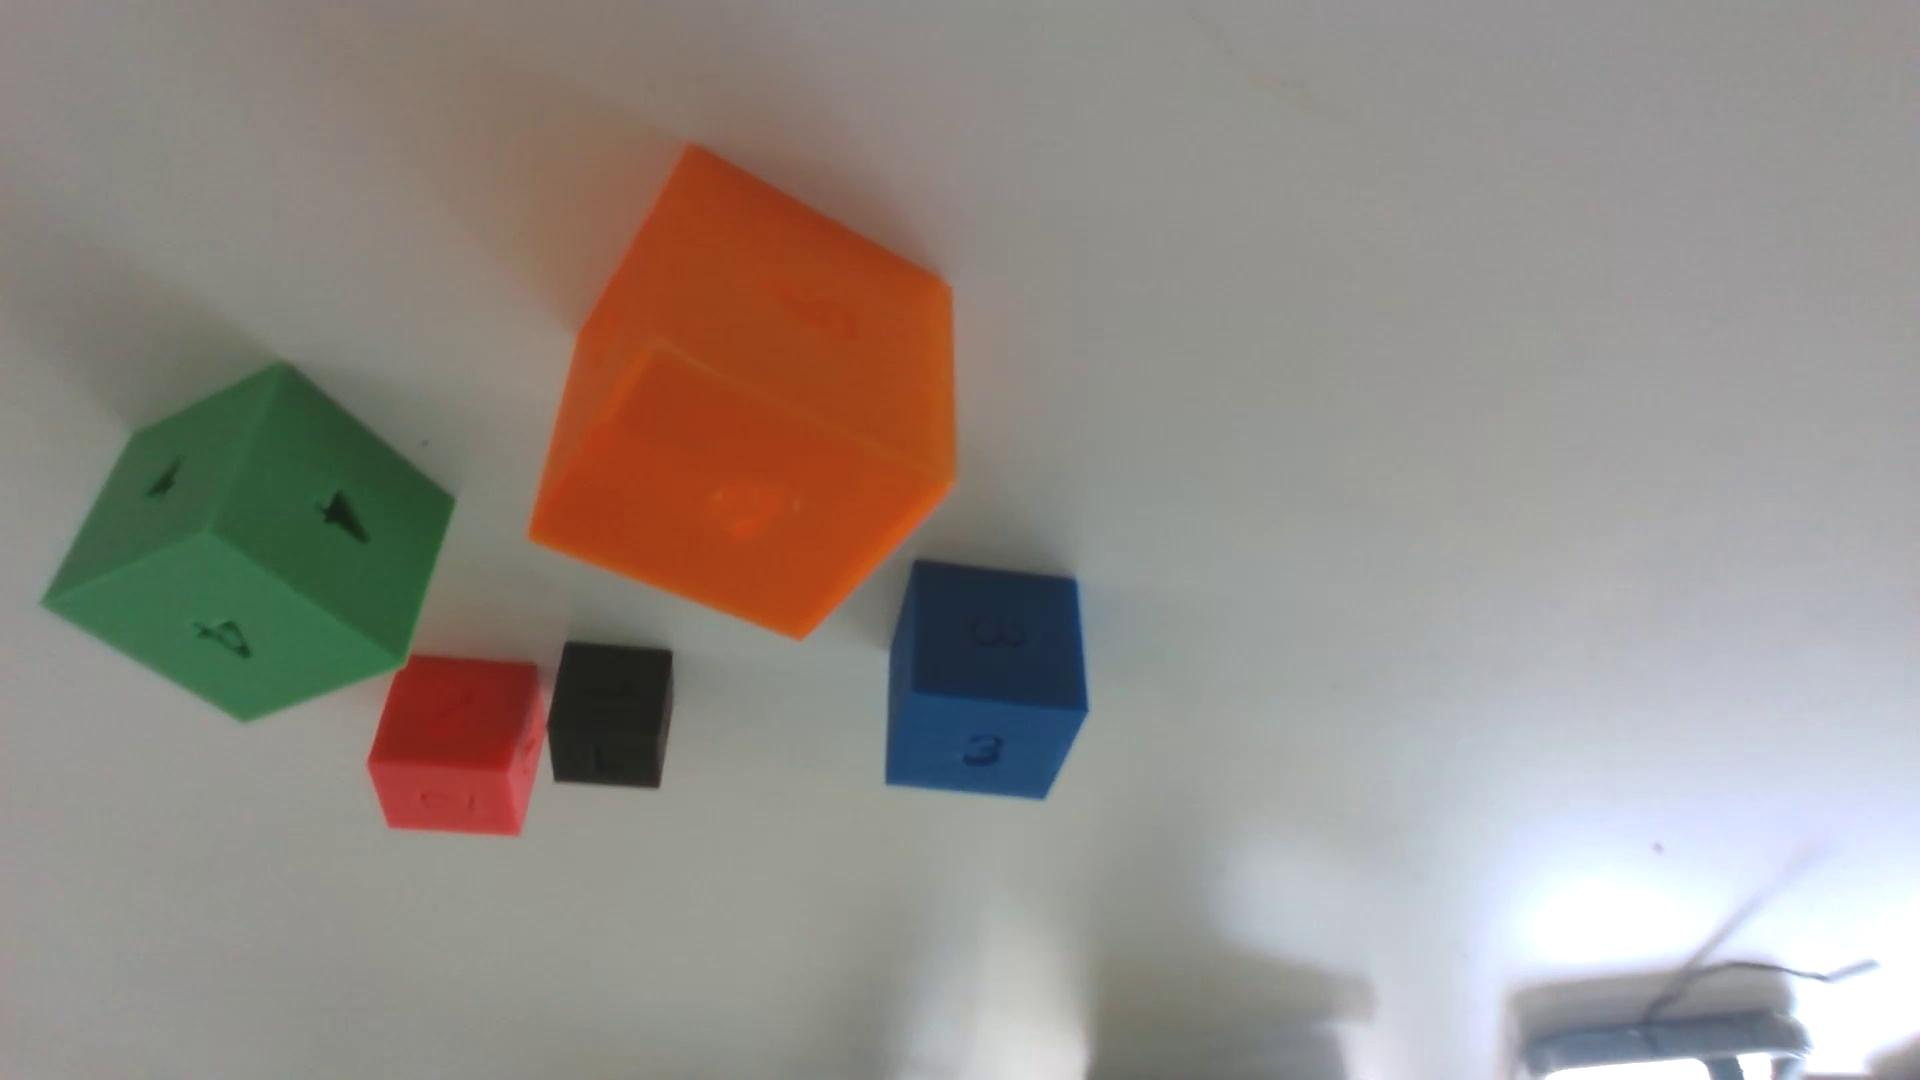black: (547, 640, 675, 789)
blue: (885, 559, 1089, 799)
green: (44, 363, 454, 720)
orange: (530, 146, 957, 637)
red: (367, 653, 546, 836)
